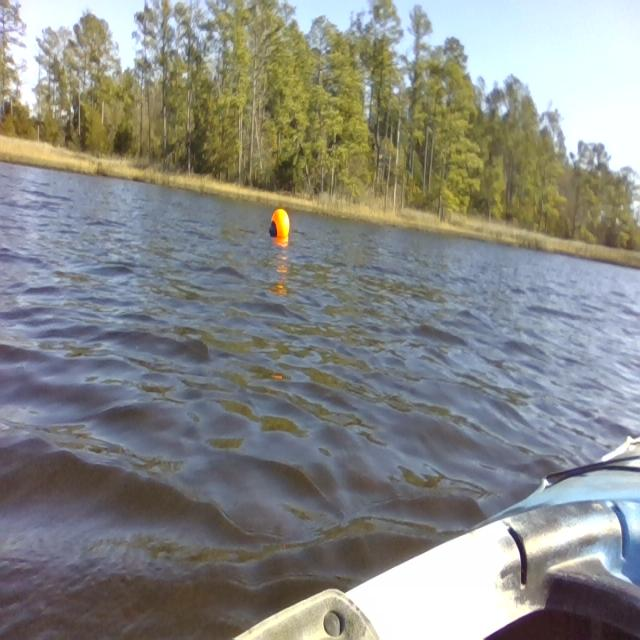Buoy: (261, 203, 297, 250)
